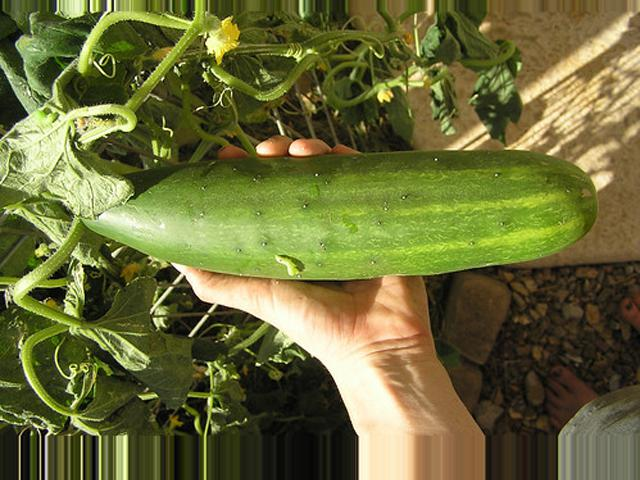cucumber: (74, 148, 598, 279)
